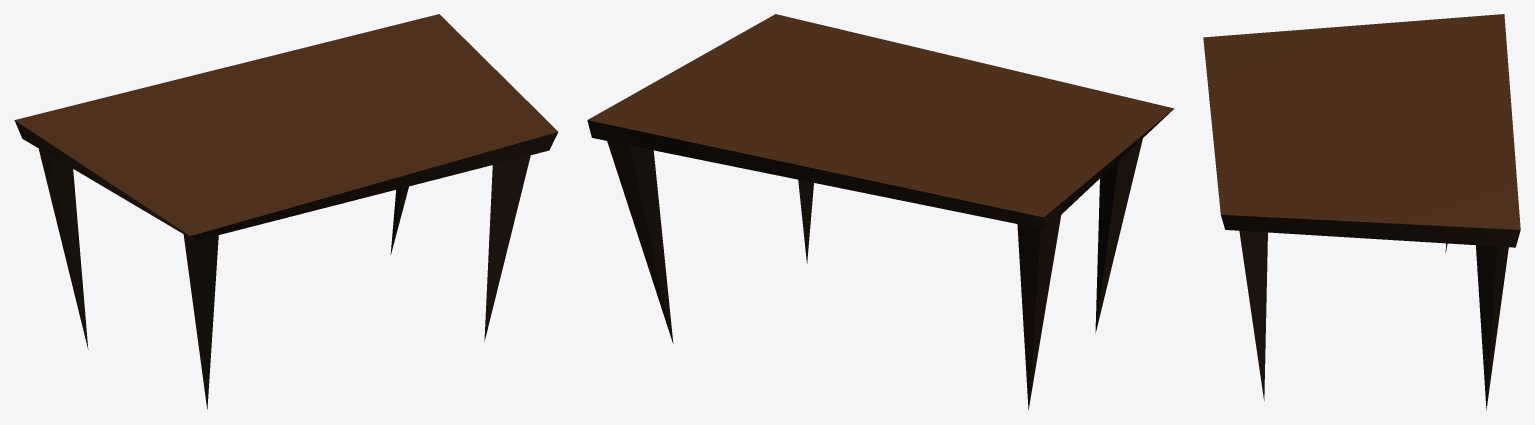
File: c_furniture_table_square_wood_aa.fbx
3 views of the same model, side by side, from view 1: azimuth 30°, elevation 25°; view 2: azimuth 150°, elevation 25°; view 3: azimuth 270°, elevation 25° (orthographic). The views are drawn at different scales.
Visible parts, largest first — view 1: c_furniture_table_square_wood_aa; view 2: c_furniture_table_square_wood_aa; view 3: c_furniture_table_square_wood_aa.
Part boxes in pixels (<box>): c_furniture_table_square_wood_aa: <box>14,14,558,409</box>; c_furniture_table_square_wood_aa: <box>587,14,1174,409</box>; c_furniture_table_square_wood_aa: <box>1203,14,1520,410</box>.
Size of the model in its own units: 1.92 by 0.9307 by 1.23.
